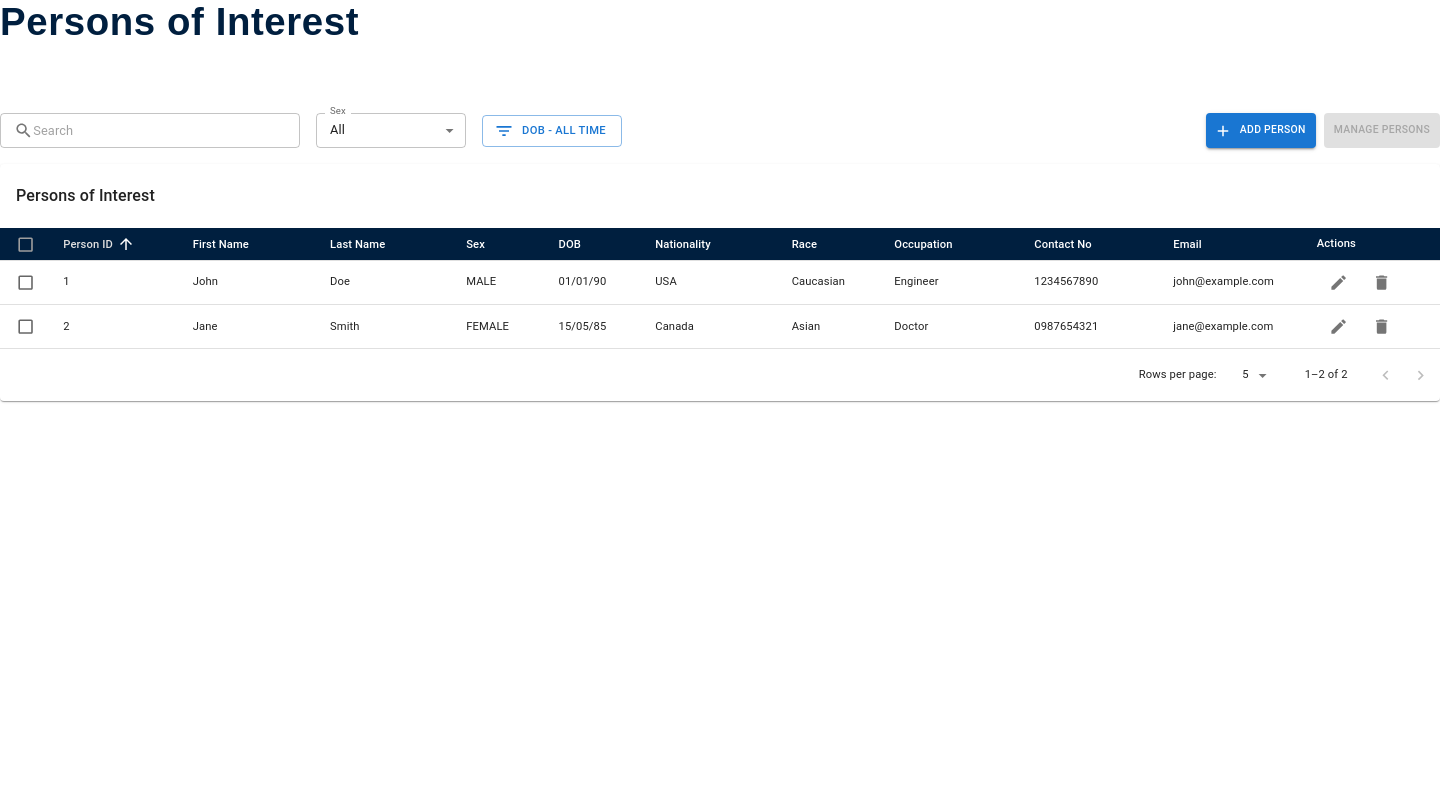
Test: PersonsOfInterest Component › opens edit dialog for a selected row
The image size is (1440, 810).
Expected: the text "John" is shown, [177,260,314,305]
Click the button named "edit" in the row of "Doe" at {"x": 1338, "y": 282}, box [1317,261,1360,304]
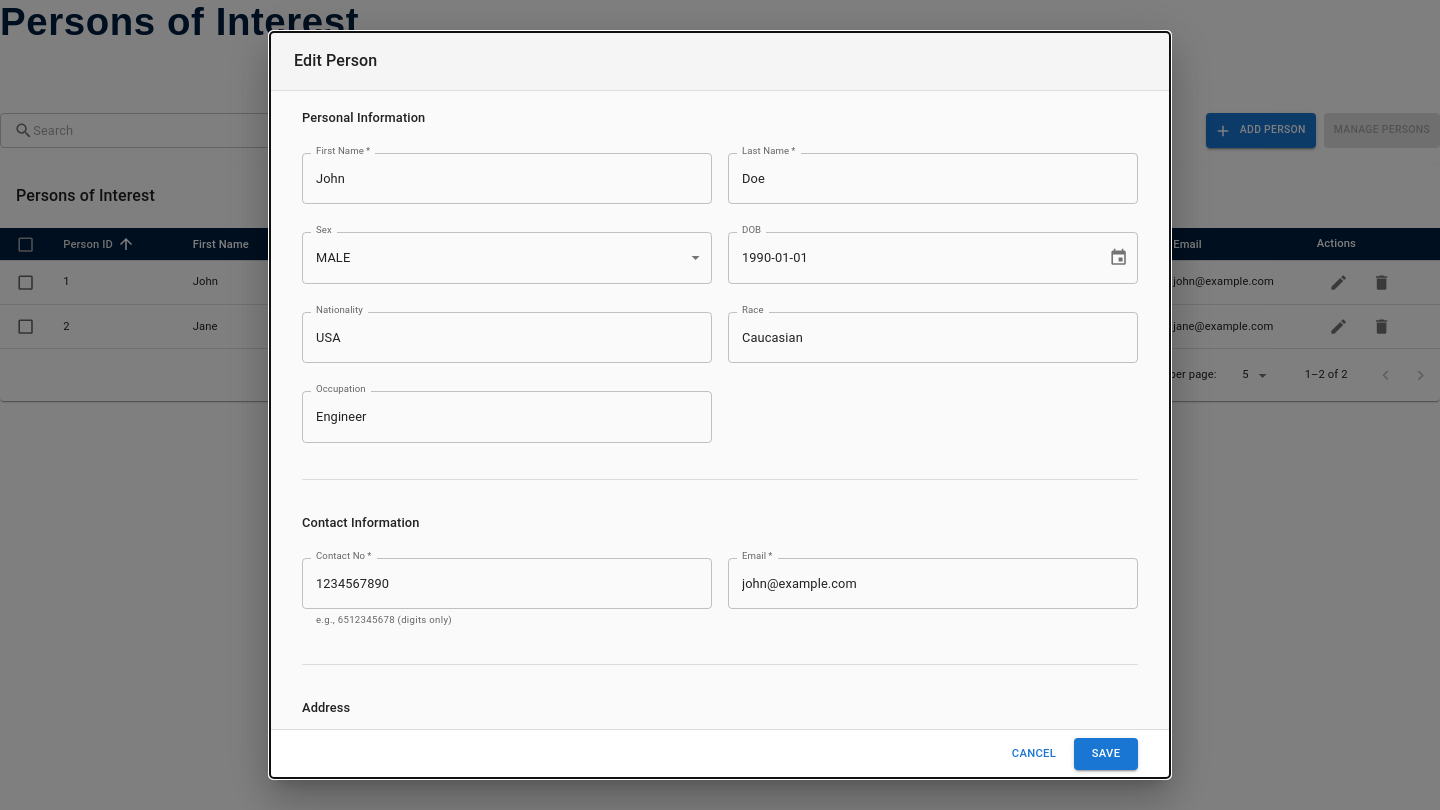
Expected: the heading "Edit Person" is shown, [270,32,1170,91]
